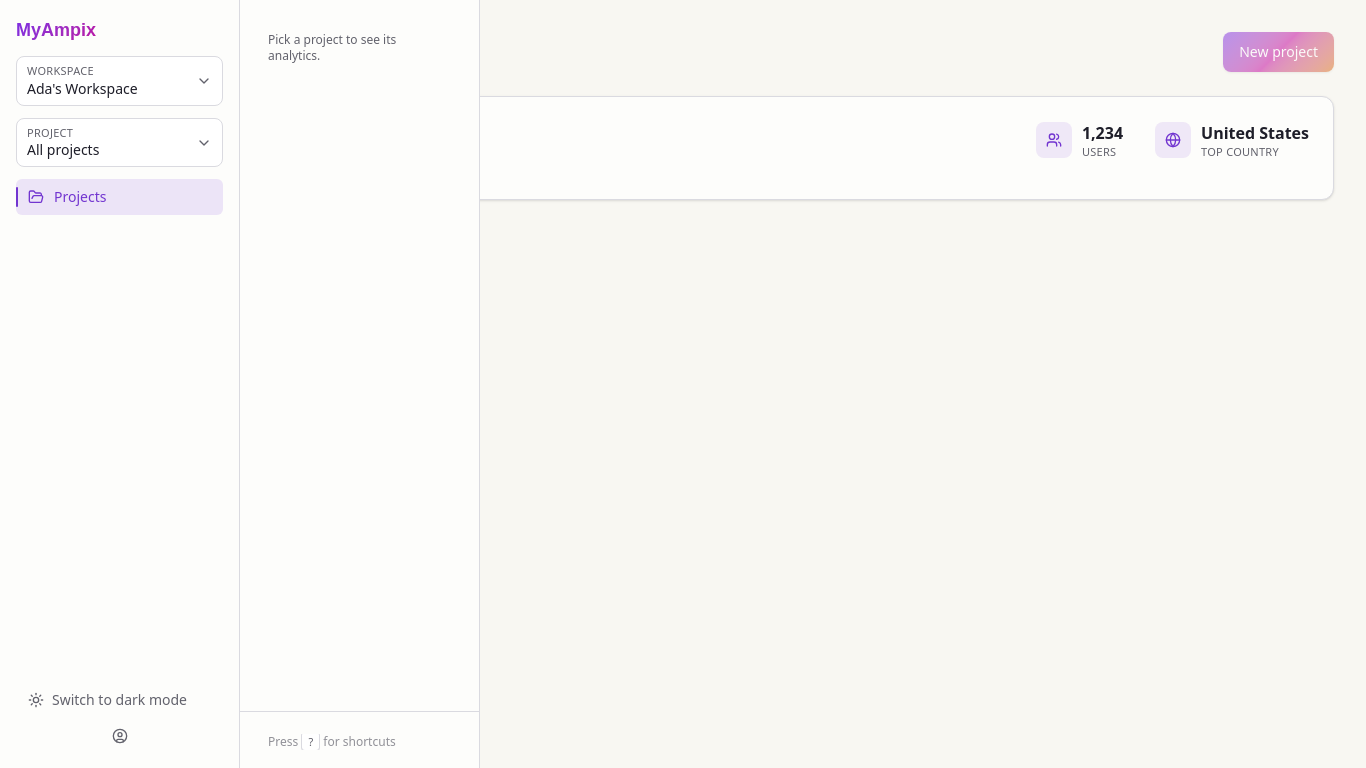
ProjectsPage — creating a project › gates project creation on the selected workspace’s role
The image size is (1366, 768).
expect the heading "Projects" is shown: met, box top-left (160, 36), bottom-right (256, 68)
expect the button "New project" is disabled: met, box top-left (1223, 32), bottom-right (1334, 72)
Switching to the workspace where MFA_USER is an admin (VIEWER_ORG) enables creation.
Click the button with aria-label "Switch workspace": (120, 81) top-left (16, 56), bottom-right (223, 106)
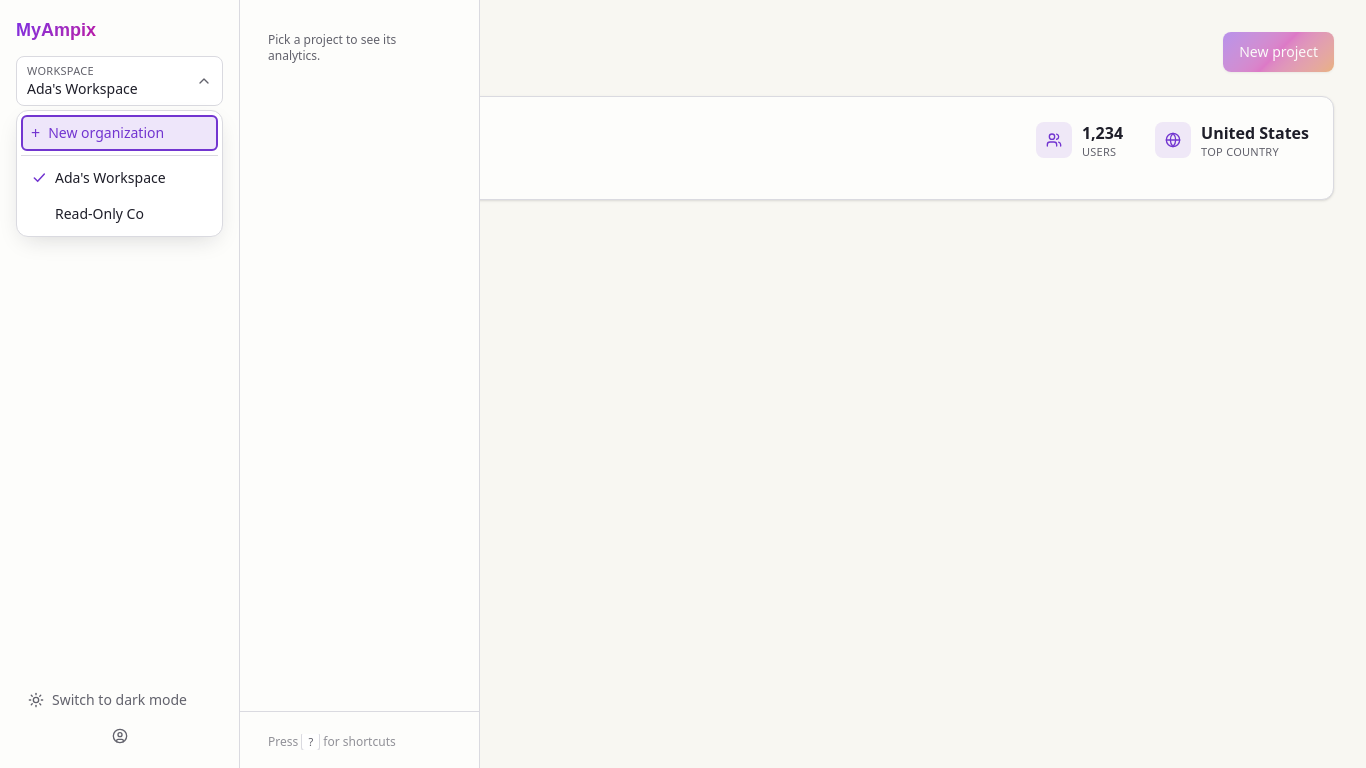
Click the menu item "Read-Only Co": (120, 214) top-left (21, 196), bottom-right (218, 232)
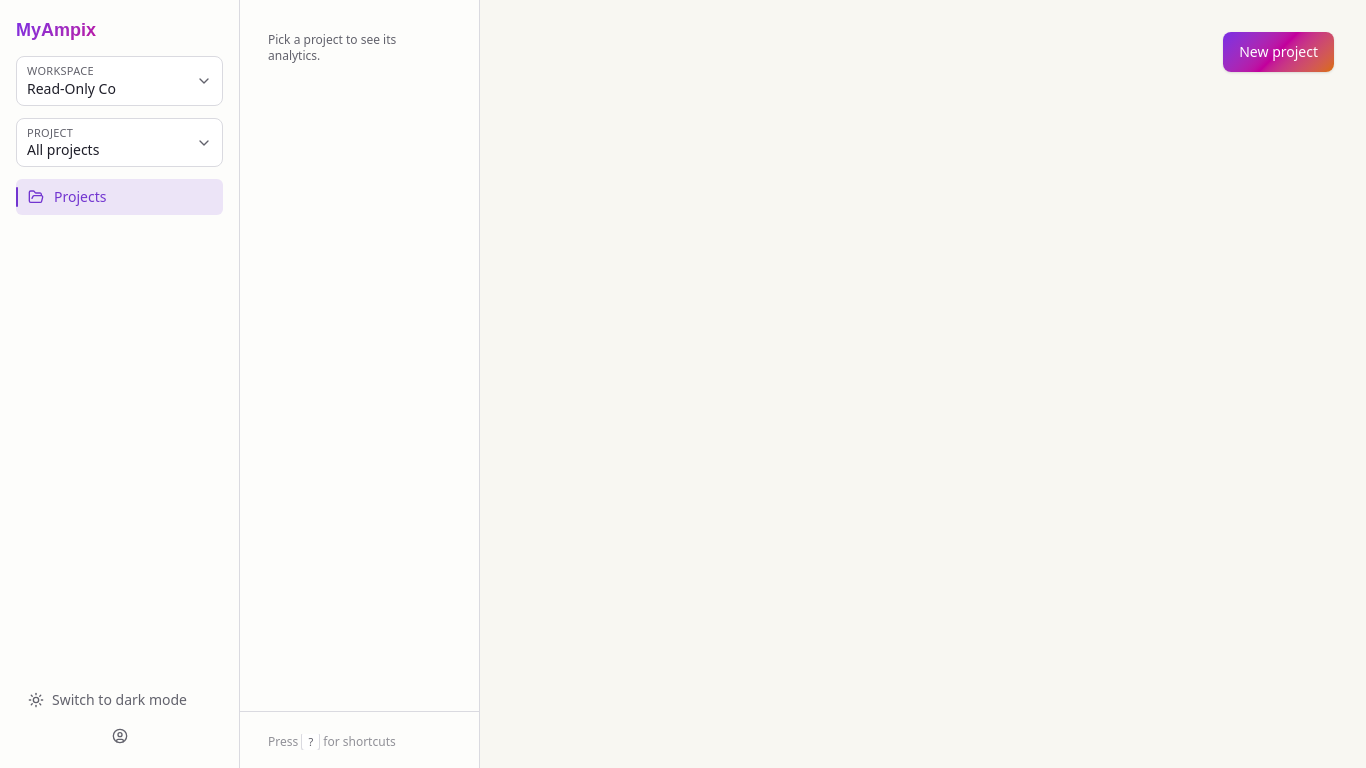
expect the button "New project" is enabled: met, box top-left (1223, 32), bottom-right (1334, 72)
